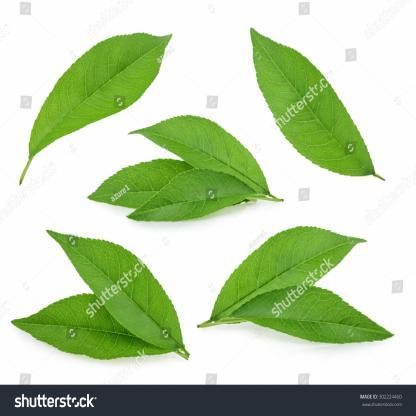Peach leaf: (20, 26, 176, 180), (247, 14, 384, 181), (46, 227, 183, 350), (203, 224, 367, 314), (228, 282, 396, 352), (12, 288, 176, 356), (128, 109, 266, 185), (126, 165, 252, 225), (82, 156, 180, 208)
